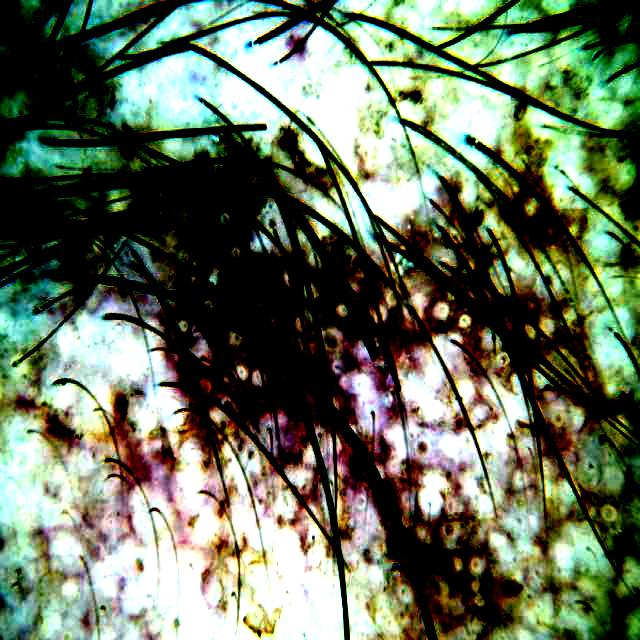AKIEC: (163, 119, 623, 583)
